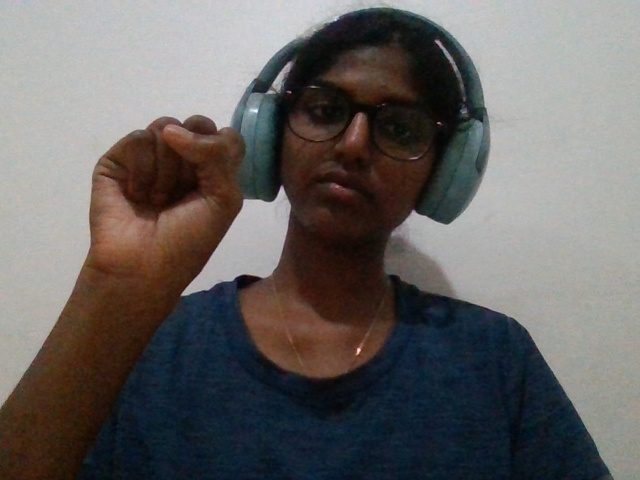Yes: (77, 91, 290, 362)
